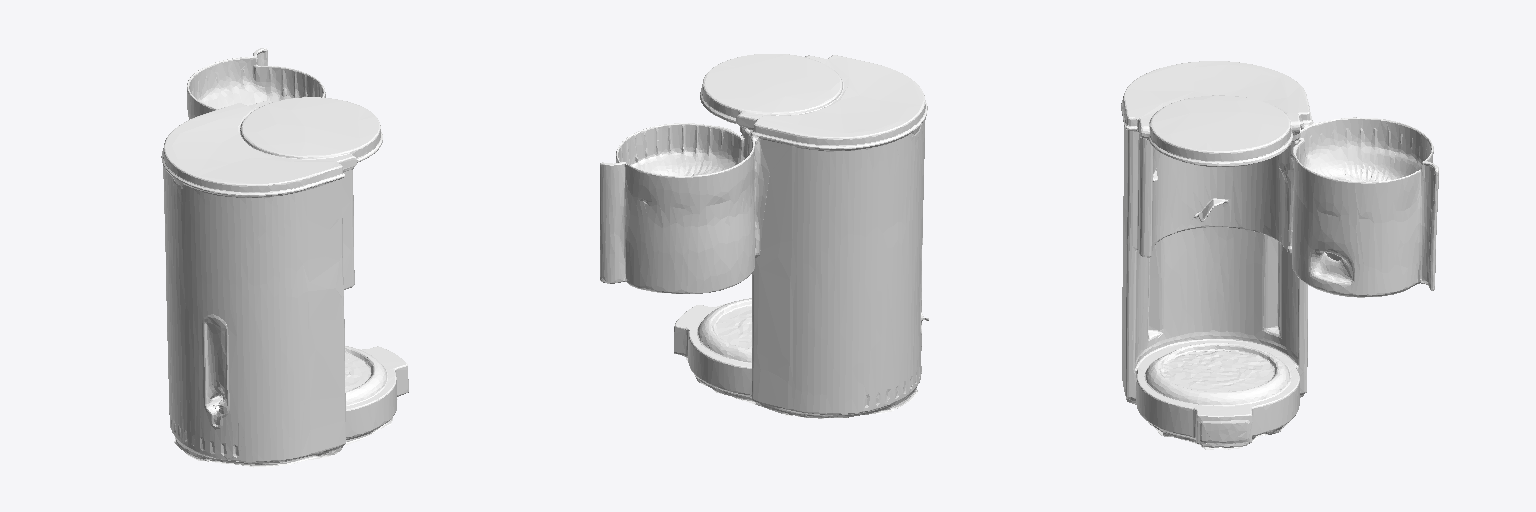
The model's file is CoffeeemachineOpenFilterFilled.obj.
The picture shows the model from 3 angles: view 1: azimuth 30°, elevation 25°; view 2: azimuth 150°, elevation 25°; view 3: azimuth 270°, elevation 25°; orthographic projection.
Parts seen in each view (by area): view 1: CoffeemachineOpen; view 2: CoffeemachineOpen; view 3: CoffeemachineOpen.
Part boxes in pixels (x1,y1,x2,y2): CoffeemachineOpen: (161,48,408,467); CoffeemachineOpen: (600,54,928,418); CoffeemachineOpen: (1121,61,1438,449).
Bounding box in the file's own units: 258 × 314 × 310.